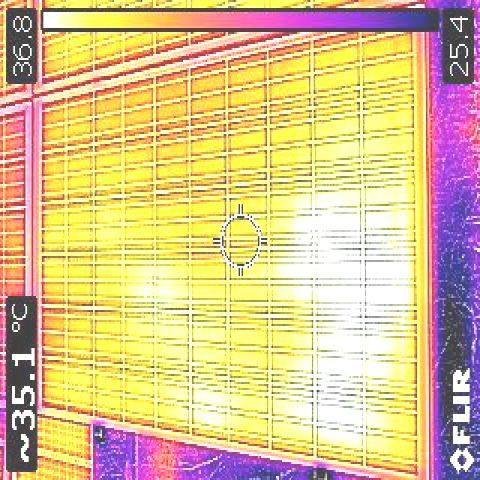fault: (294, 207, 411, 388)
